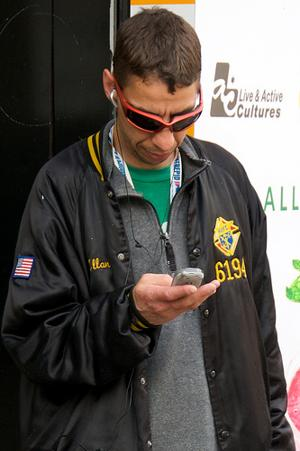person: (2, 10, 297, 450)
